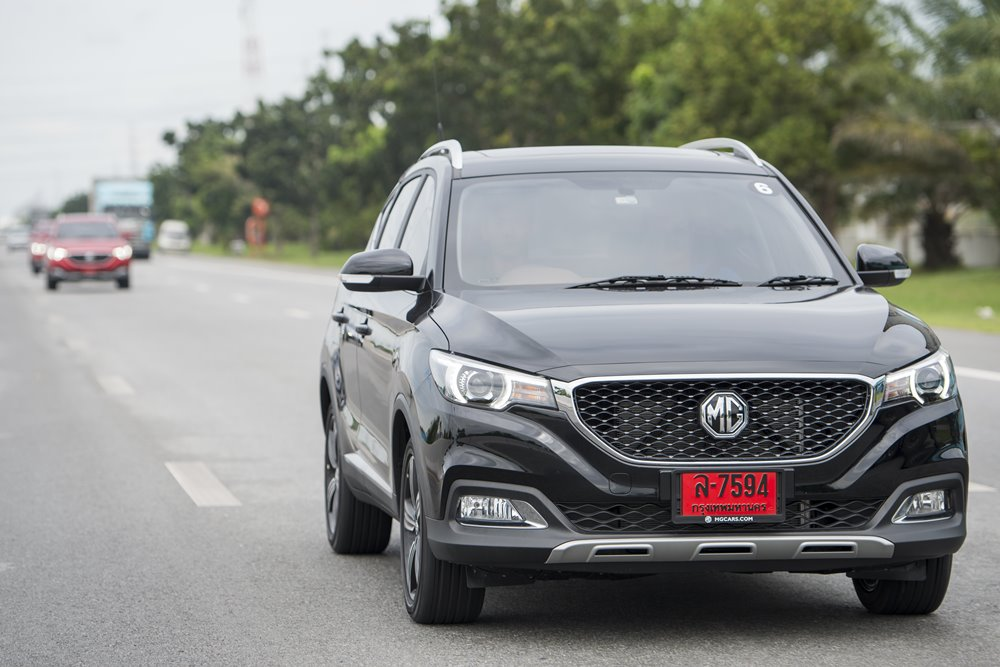pickup: (317, 135, 972, 626)
